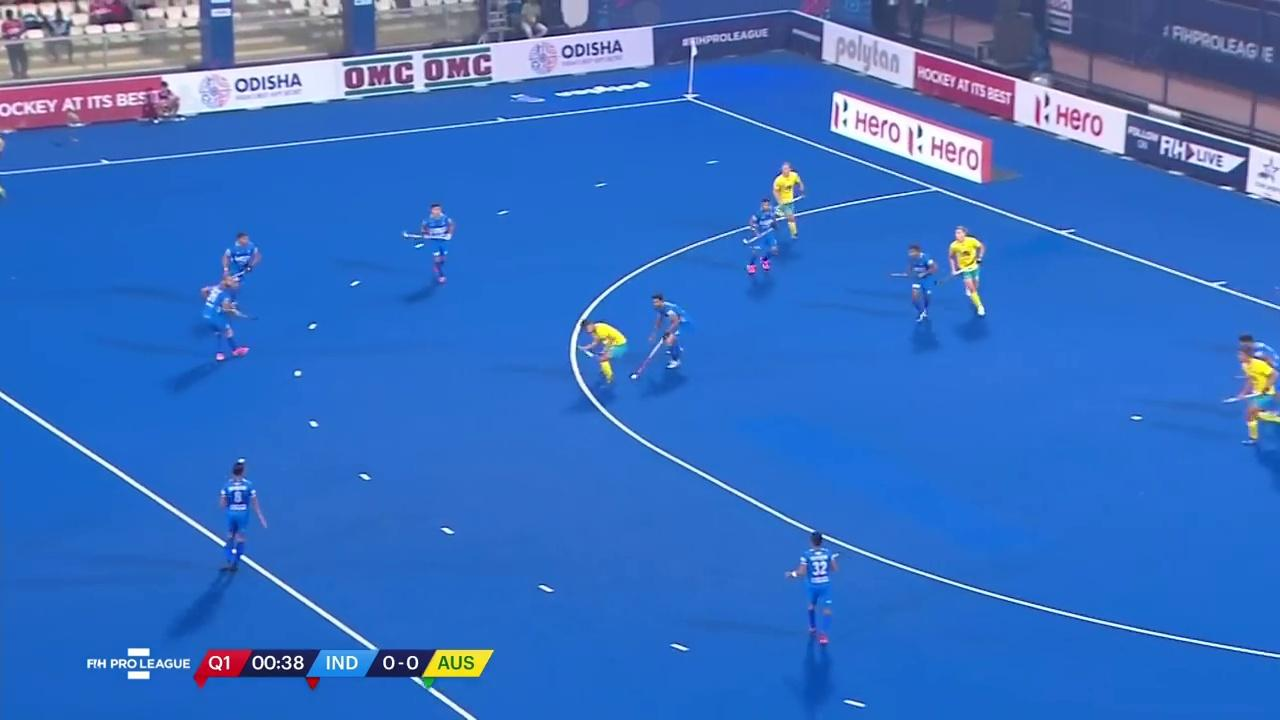ball: (628, 370, 642, 383)
